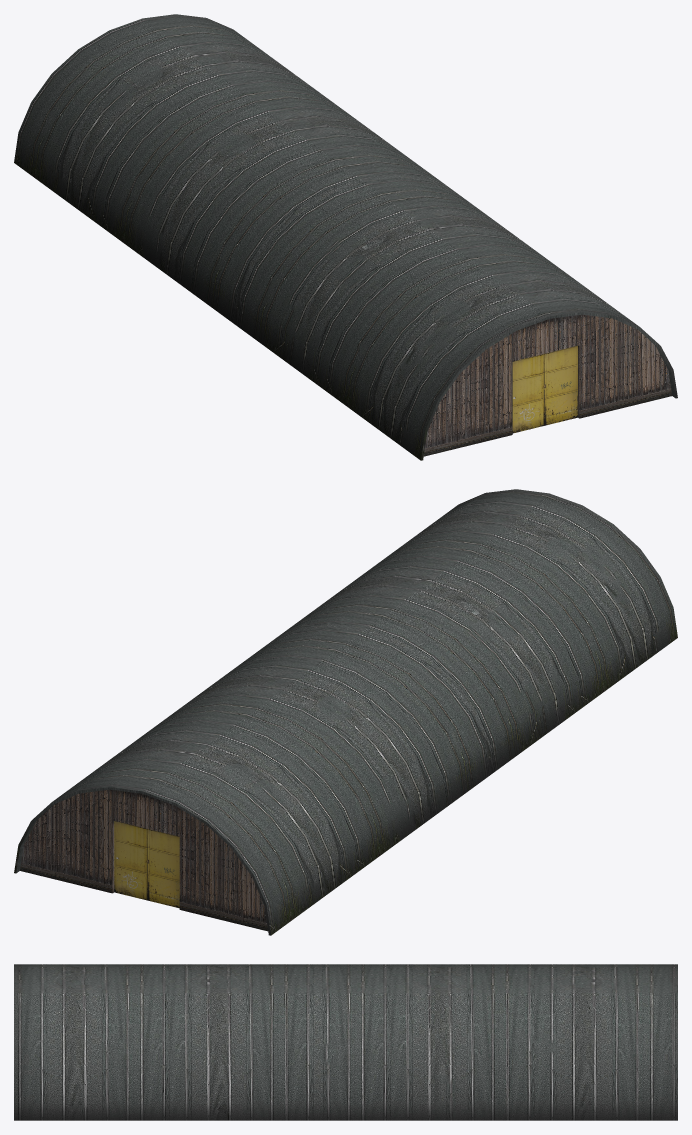
The model's file is r402_borovoe_angar3.FBX.
3 renders of one model, top to bottom at view 1: azimuth 30°, elevation 25°; view 2: azimuth 150°, elevation 25°; view 3: azimuth 270°, elevation 25°, orthographic. The views are drawn at different scales.
Visible parts, largest first — view 1: r402_borovoe_angar3; view 2: r402_borovoe_angar3; view 3: r402_borovoe_angar3.
Boxes of the visible parts, x1=… form: r402_borovoe_angar3: x1=14, y1=14, x2=677, y2=460; r402_borovoe_angar3: x1=14, y1=489, x2=677, y2=935; r402_borovoe_angar3: x1=14, y1=964, x2=677, y2=1120.
Bounding box in the file's own units: 1458 × 4000 × 613.
